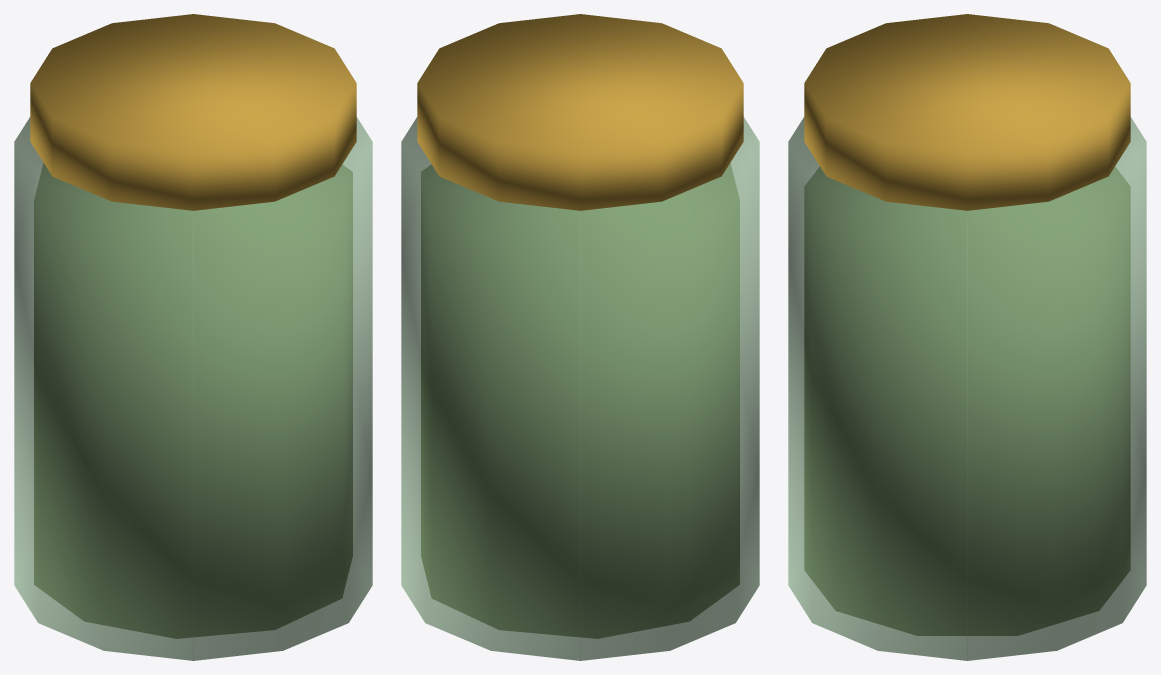
The model's file is pickles.glb.
The picture shows the model from 3 angles, left to right: view 1: azimuth 30°, elevation 25°; view 2: azimuth 150°, elevation 25°; view 3: azimuth 270°, elevation 25°; orthographic projection.
Parts seen in each view (by area): view 1: Item; view 2: Item; view 3: Item.
Boxes of the visible parts, box(x1,y1,x2,y2) form: Item: box(14, 14, 372, 660); Item: box(401, 14, 759, 660); Item: box(788, 14, 1146, 660).
Bounding box in the file's own units: 0.11 × 0.17 × 0.11.
